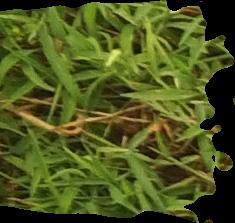grass: (1, 1, 234, 221)
